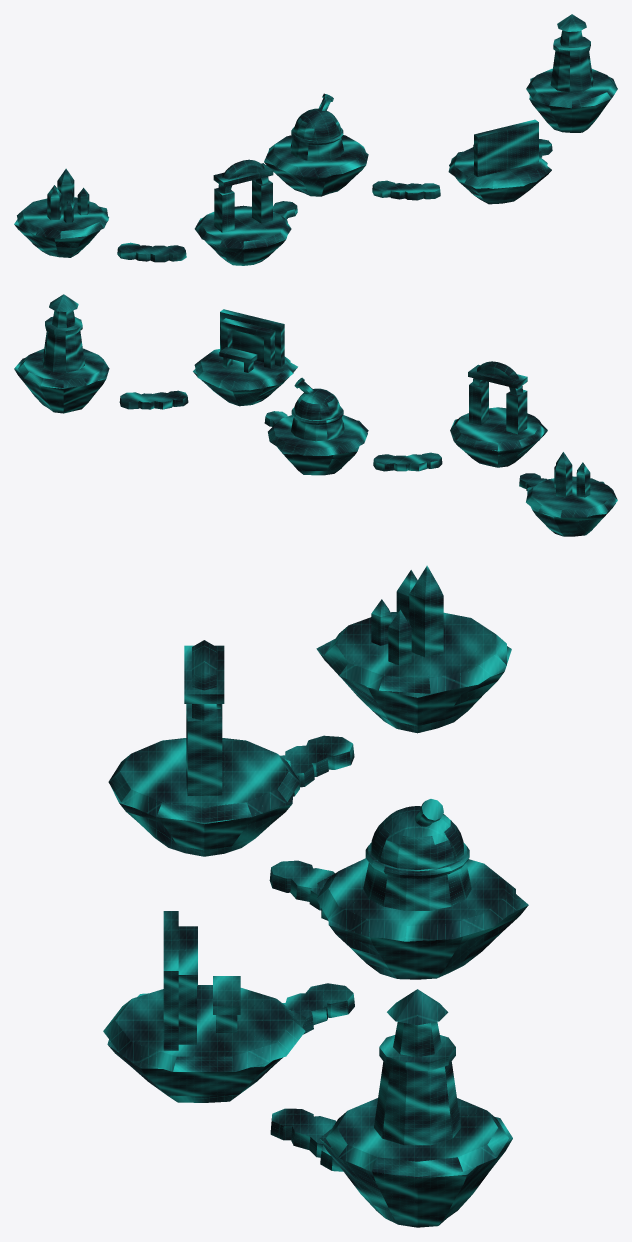
Rendered from Triad_Relay_Beacons.glb.
3 renders of one model, top to bottom at view 1: azimuth 30°, elevation 25°; view 2: azimuth 150°, elevation 25°; view 3: azimuth 270°, elevation 25°, orthographic. The views are drawn at different scales.
Visible parts, largest first — view 1: Triad_Relay_Beacons; view 2: Triad_Relay_Beacons; view 3: Triad_Relay_Beacons.
Part boxes in pixels (x1,y1,x2,y2): Triad_Relay_Beacons: (14, 14, 617, 265); Triad_Relay_Beacons: (14, 294, 617, 536); Triad_Relay_Beacons: (103, 565, 528, 1227).
Size of the model in its own units: 2 by 0.3588 by 0.6246.
Materials: 1 (1 with a texture image).
